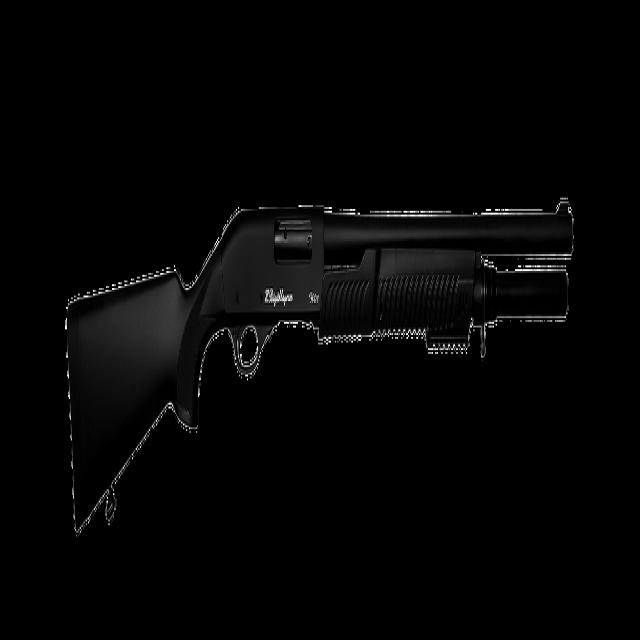Short-Gun: (56, 121, 594, 567)
